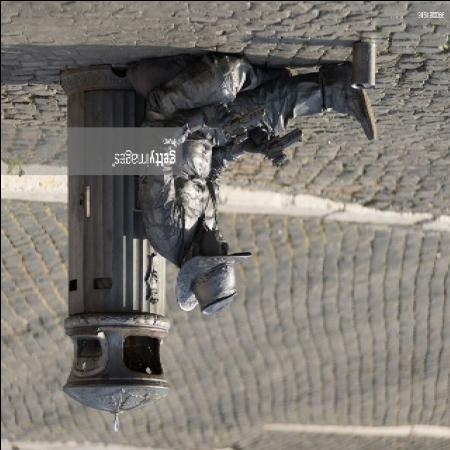Pistol: (252, 126, 302, 170)
